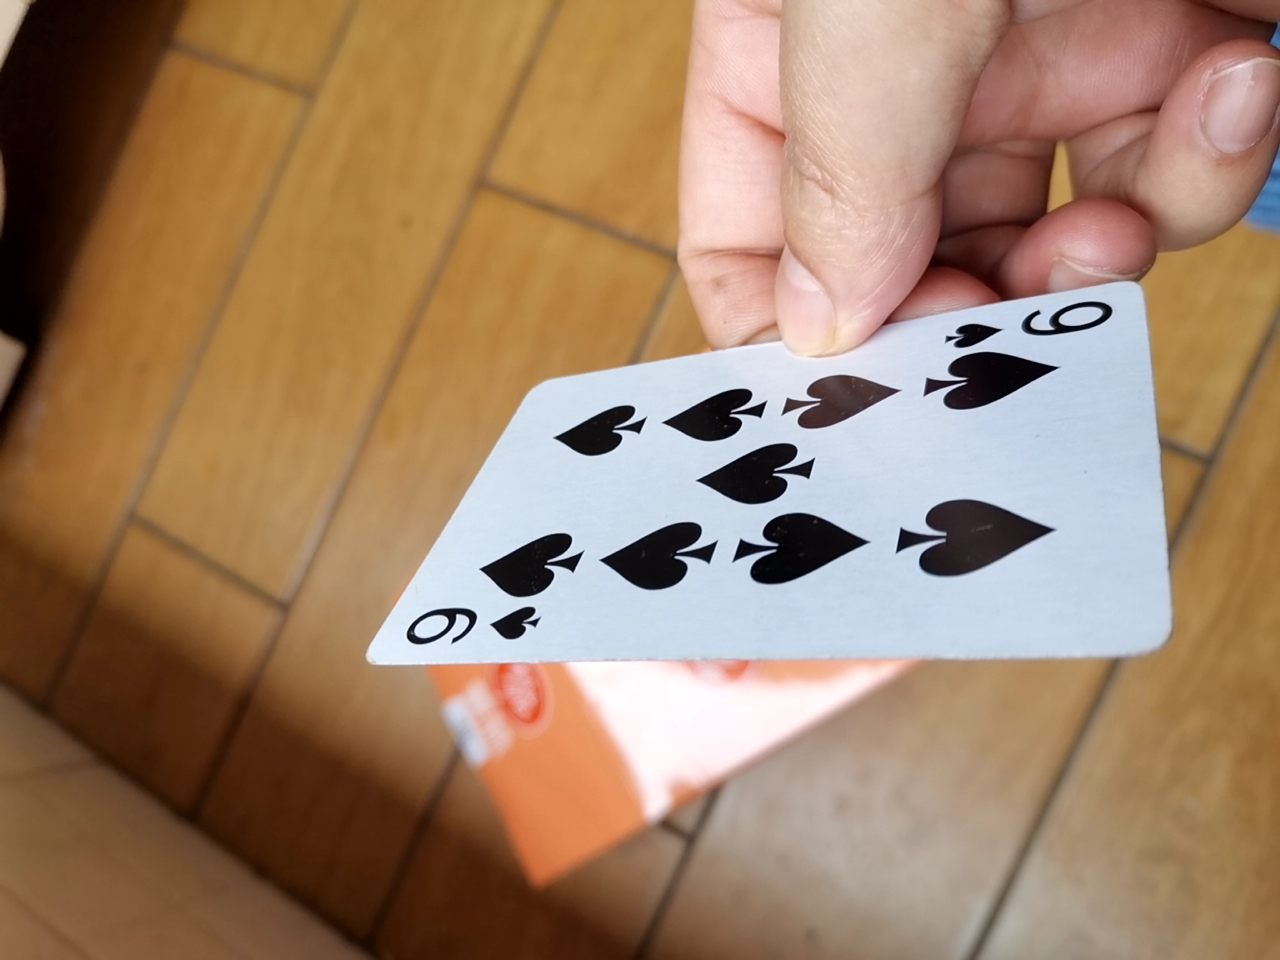ht 9: (360, 274, 1205, 700)
